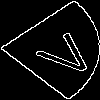V: (25, 24, 100, 81)
